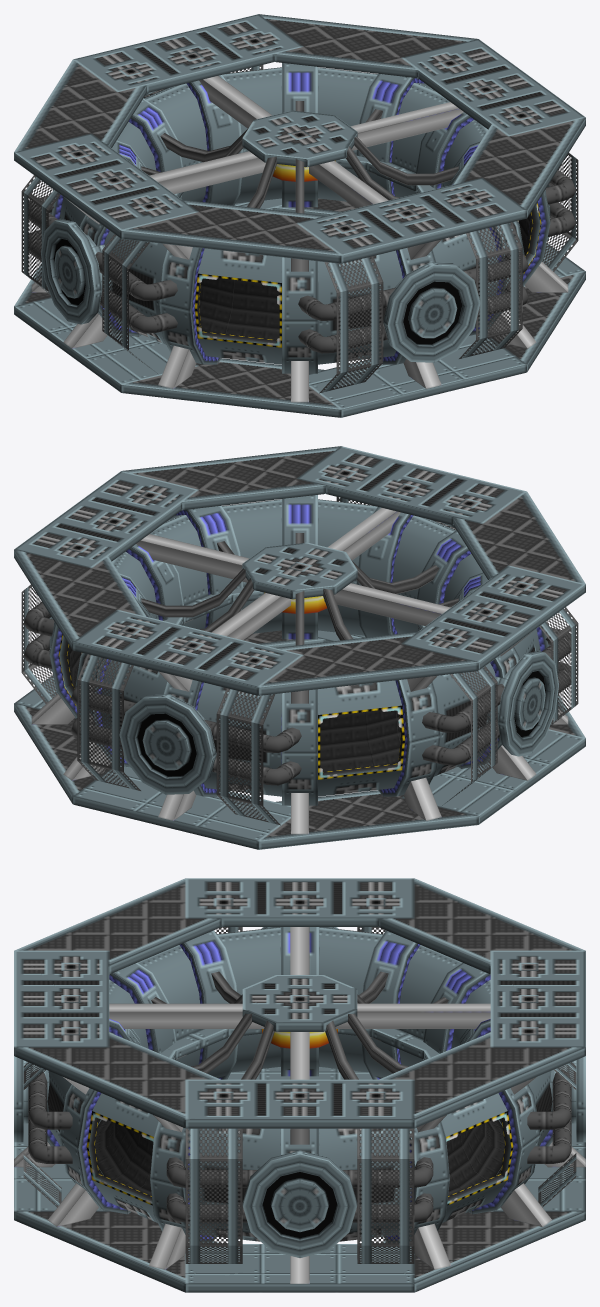
Rendered from torus_static.obj.
3 renders of one model, top to bottom at view 1: azimuth 30°, elevation 25°; view 2: azimuth 150°, elevation 25°; view 3: azimuth 270°, elevation 25°, orthographic. The views are drawn at different scales.
Parts seen in each view (by area): view 1: Torus; view 2: Torus; view 3: Torus.
Part boxes in pixels (box(x1,y1,x2,y2)): Torus: box(14, 14, 585, 417); Torus: box(14, 446, 585, 849); Torus: box(14, 878, 585, 1292).
Size of the model in its own units: 15 by 5 by 15.
